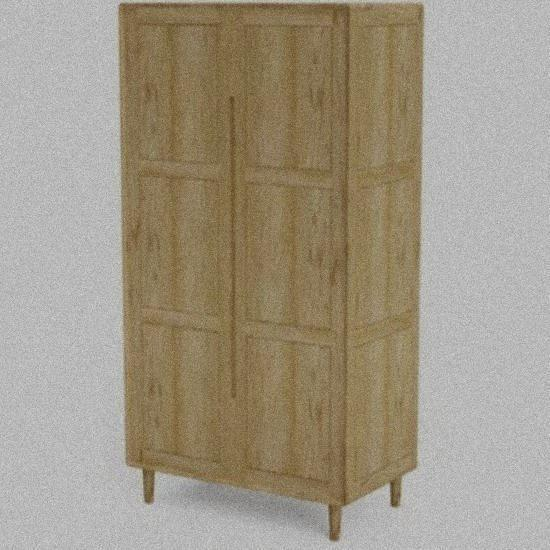Armario: (116, 0, 418, 539)
